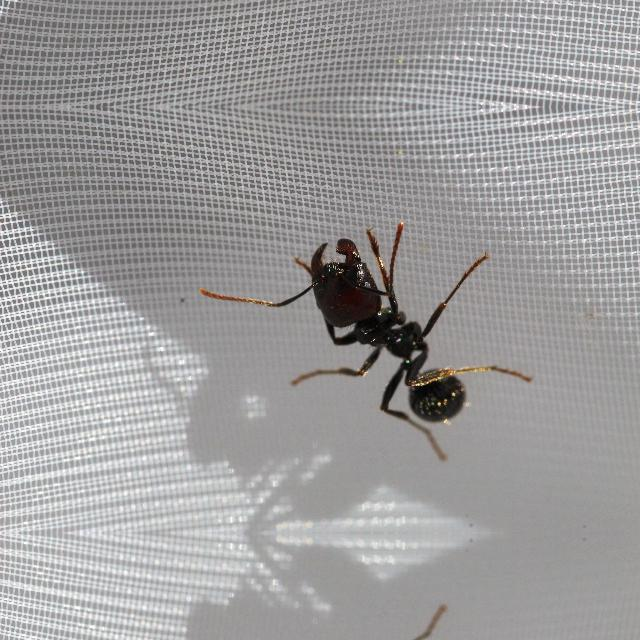Messor: (282, 219, 486, 436)
